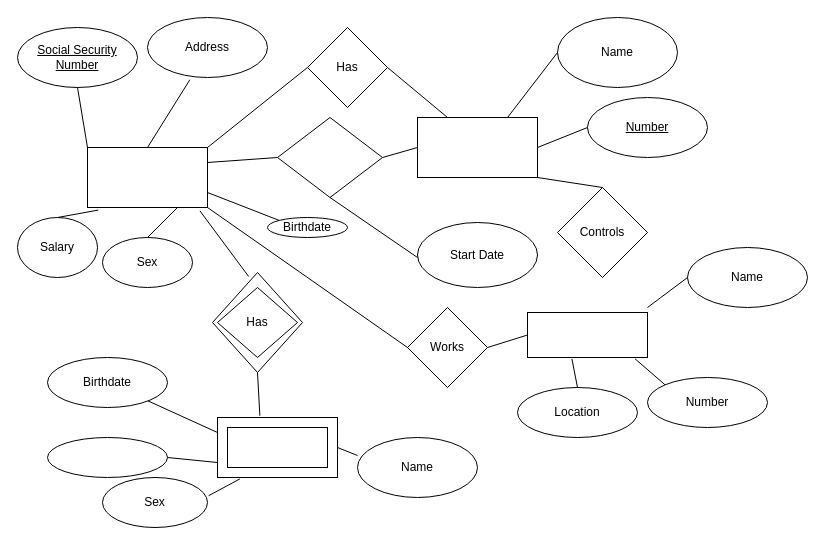
Some shapes in this 825 by 545 pixel diagram are drawn without their labels. The shapes that lost their labels are listed below. From the top down, each one's centre as x and y in pixels, then its label:
At point 329,157: "Manages".
At point 477,147: "Department".
At point 147,177: "Employee".
At point 587,335: "Projects".
At point 107,457: "Relationship".
At point 277,447: "Dependant".
